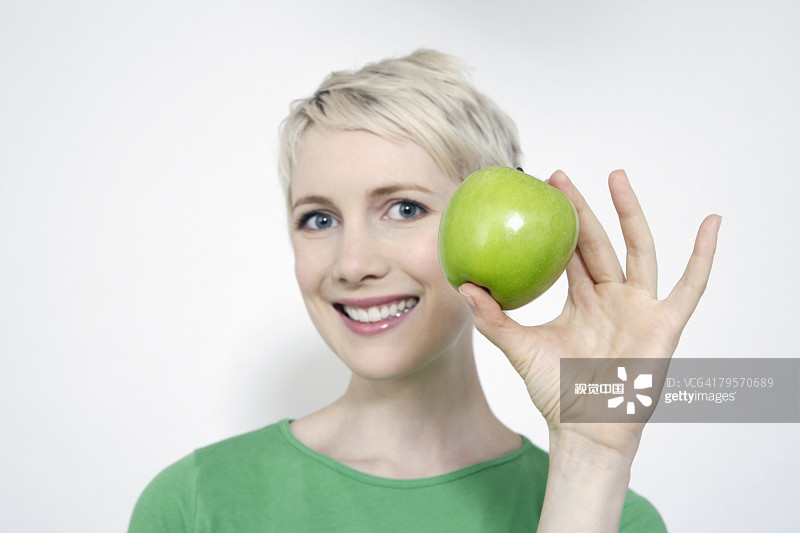no-phone: (439, 142, 739, 489)
